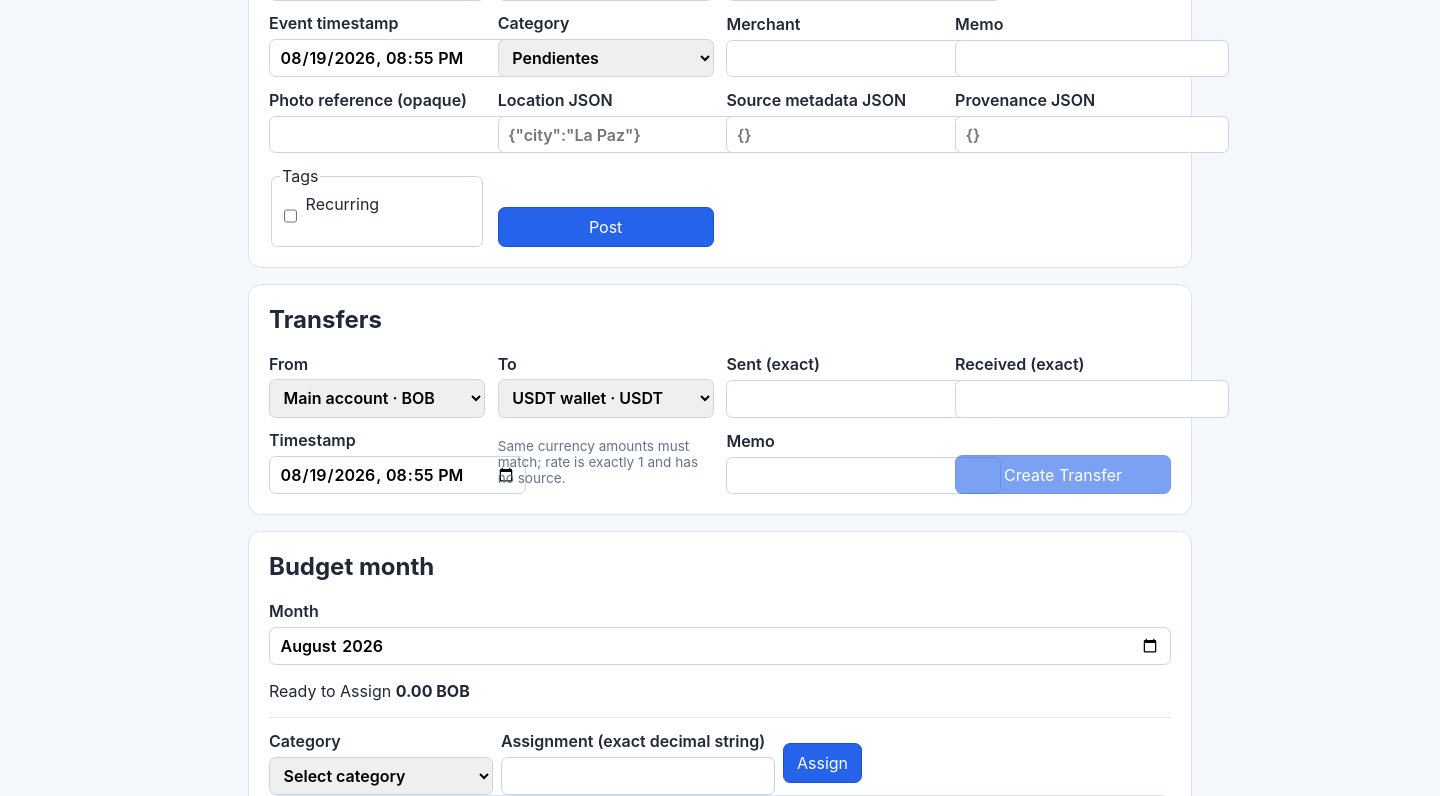
minimal authoritative client flows › posts an exact cross-currency Transfer, renders grouped facts, and refetches after reversal
(page scrolled)
Type "99999999999999999999.99" into the field labelled "Sent (exact)". click: point(864, 399)
box: top-left (726, 380), bottom-right (1001, 418)
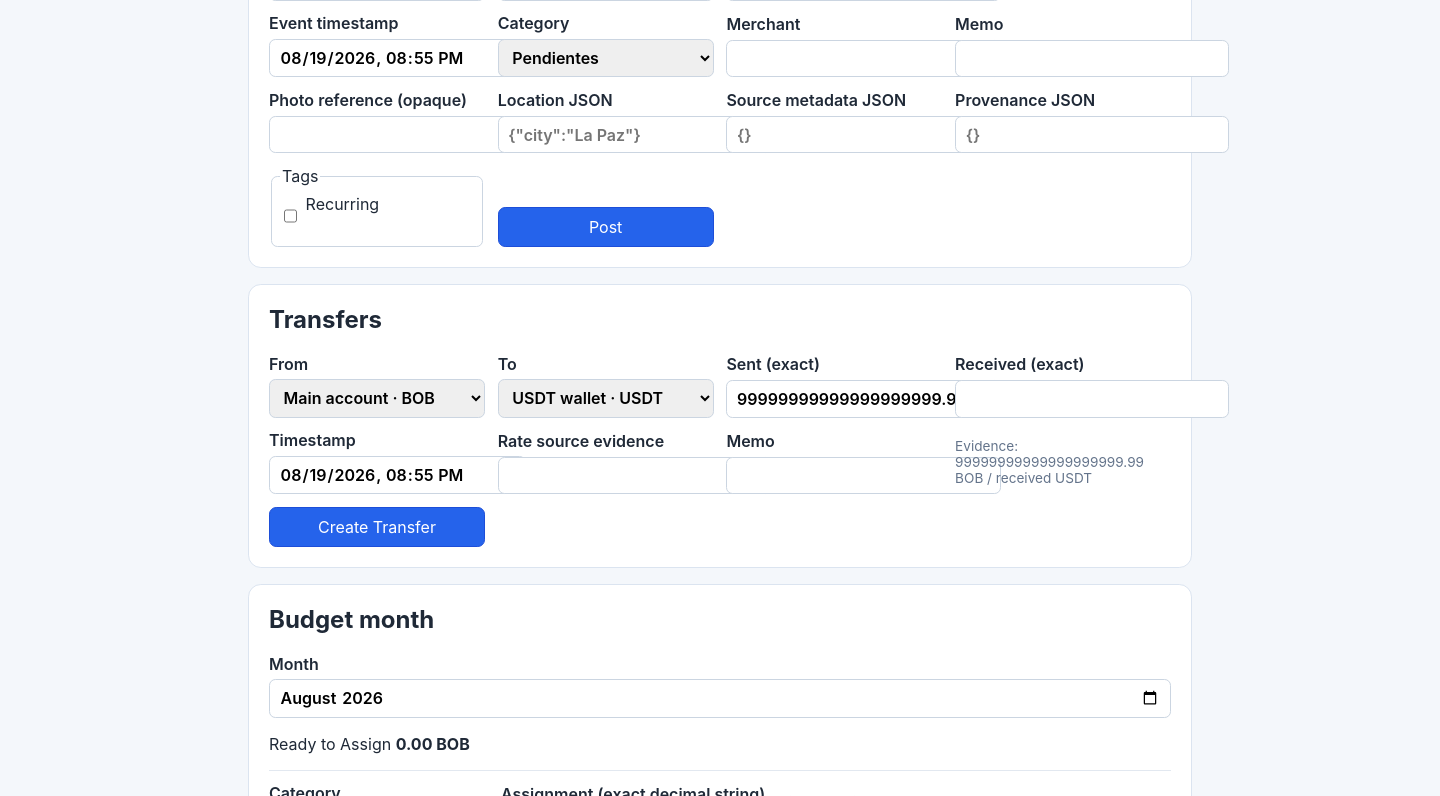
Type "10.000000" into the field labelled "Received (exact)". click: point(1092, 399)
box: top-left (955, 380), bottom-right (1229, 418)
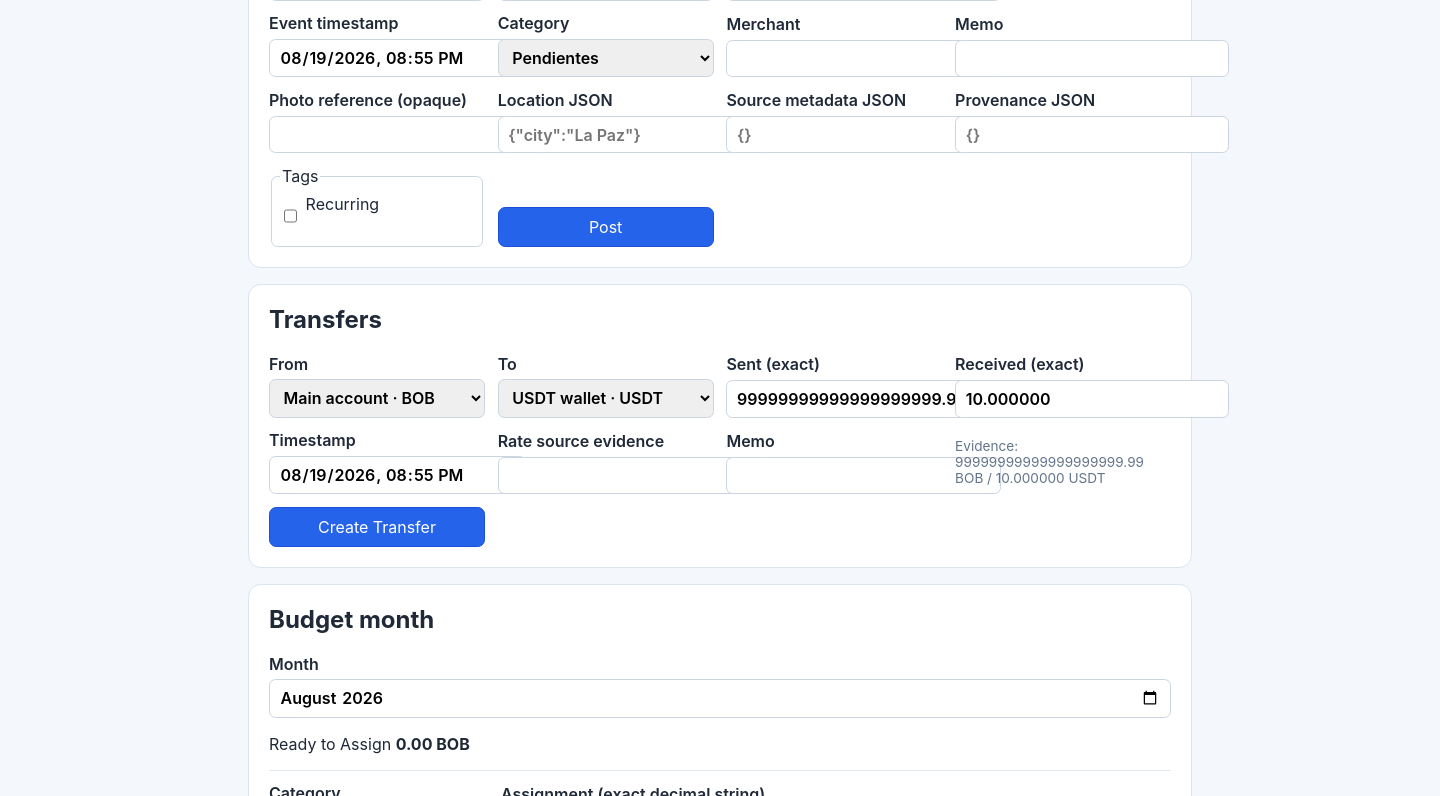
Type "bank receipt" into the field labelled "Rate source evidence". click: point(635, 476)
box: top-left (498, 457), bottom-right (772, 494)
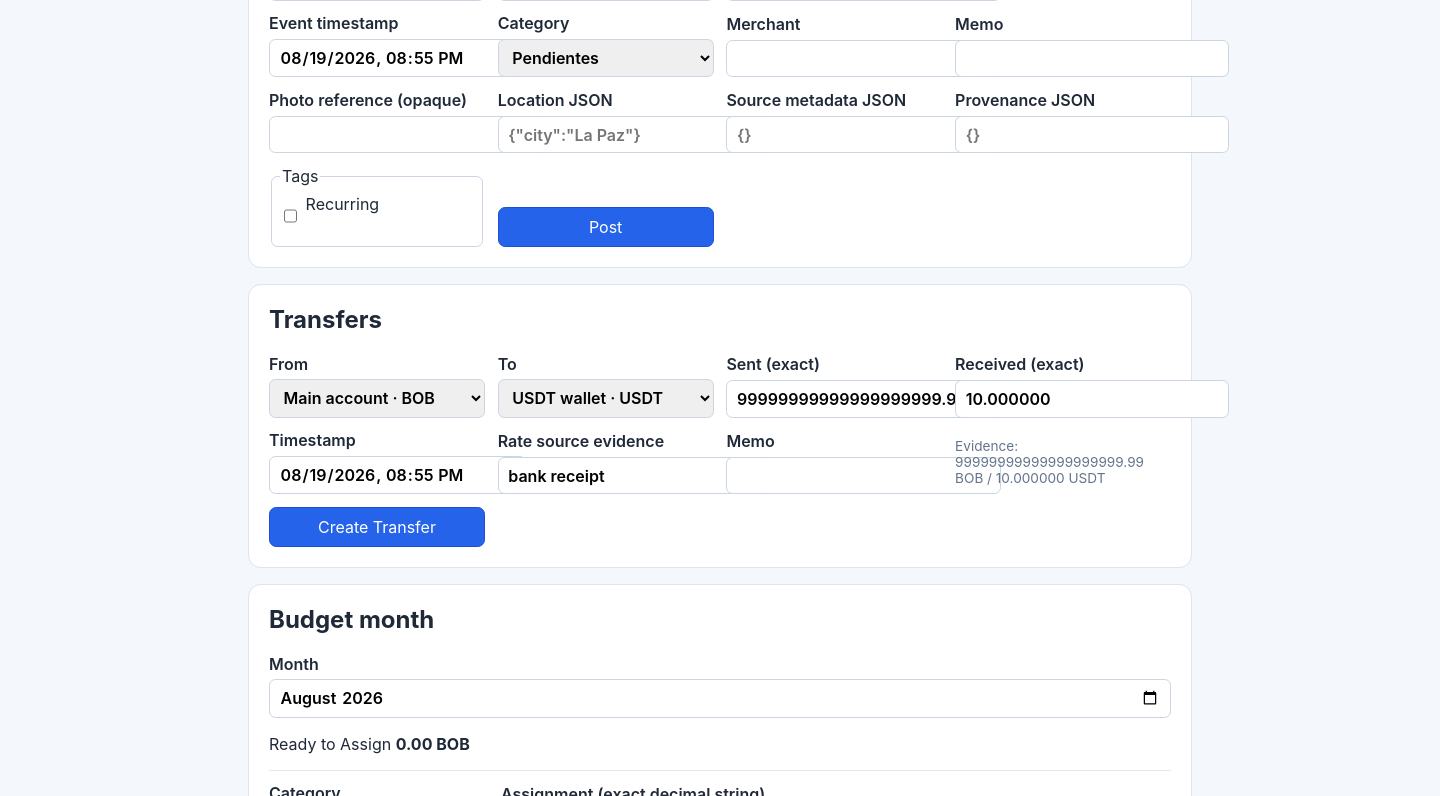
Click the button "Create Transfer". click: point(377, 527)
box: top-left (269, 507), bottom-right (485, 547)
(page scrolled)
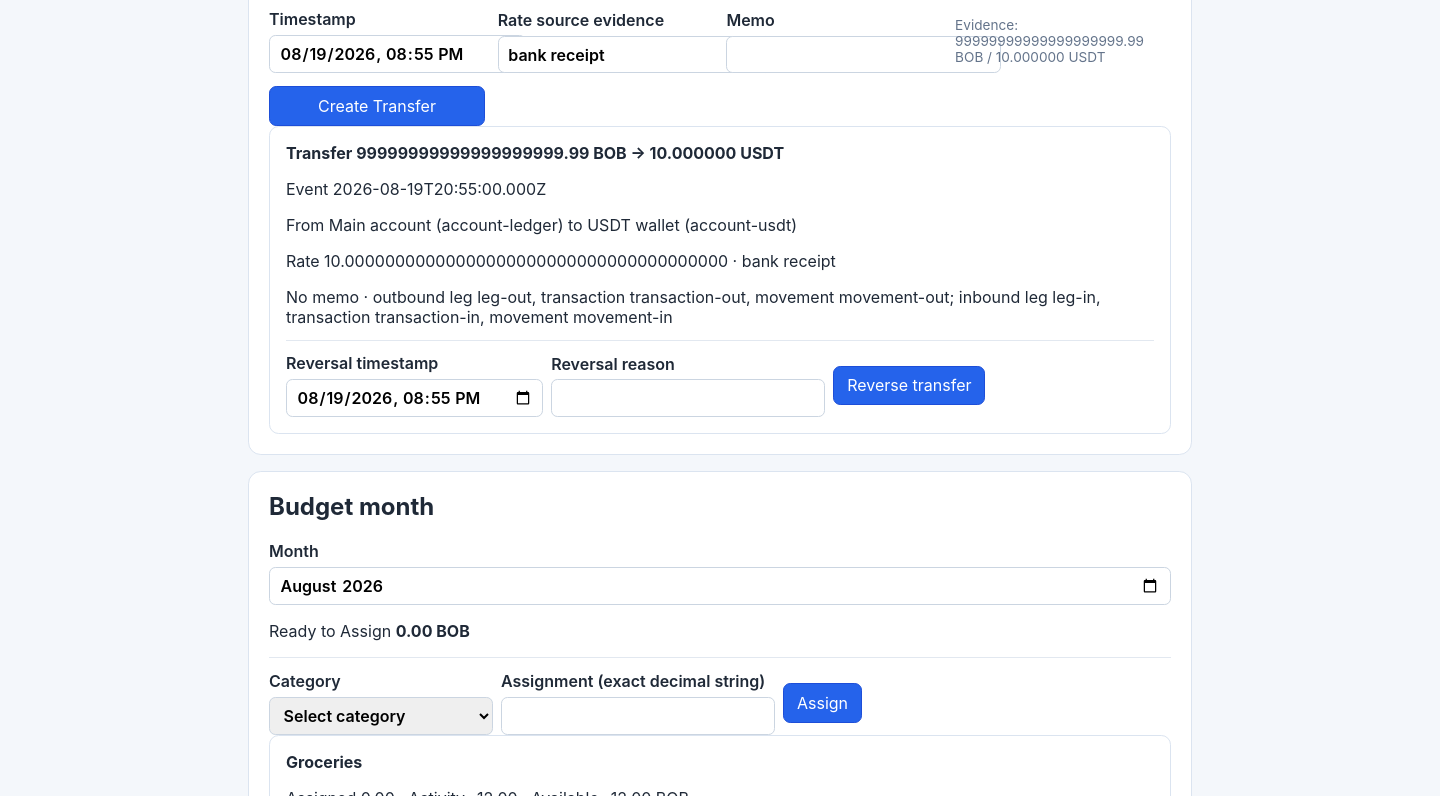
expect the text "Transfer 99999999999999999999.99 BOB → 10.000000 USDT" is shown: met, box top-left (286, 143), bottom-right (784, 163)
expect the text "Event 2026-08-19T20:55:00.000Z" is shown: met, box top-left (286, 179), bottom-right (546, 199)
expect the text "outbound leg leg-out, transaction transaction-out" is shown: met, box top-left (286, 287), bottom-right (1101, 327)
Type "duplicate" into the field labelled "Reversal reason". click: point(688, 398)
box: top-left (551, 379), bottom-right (825, 417)
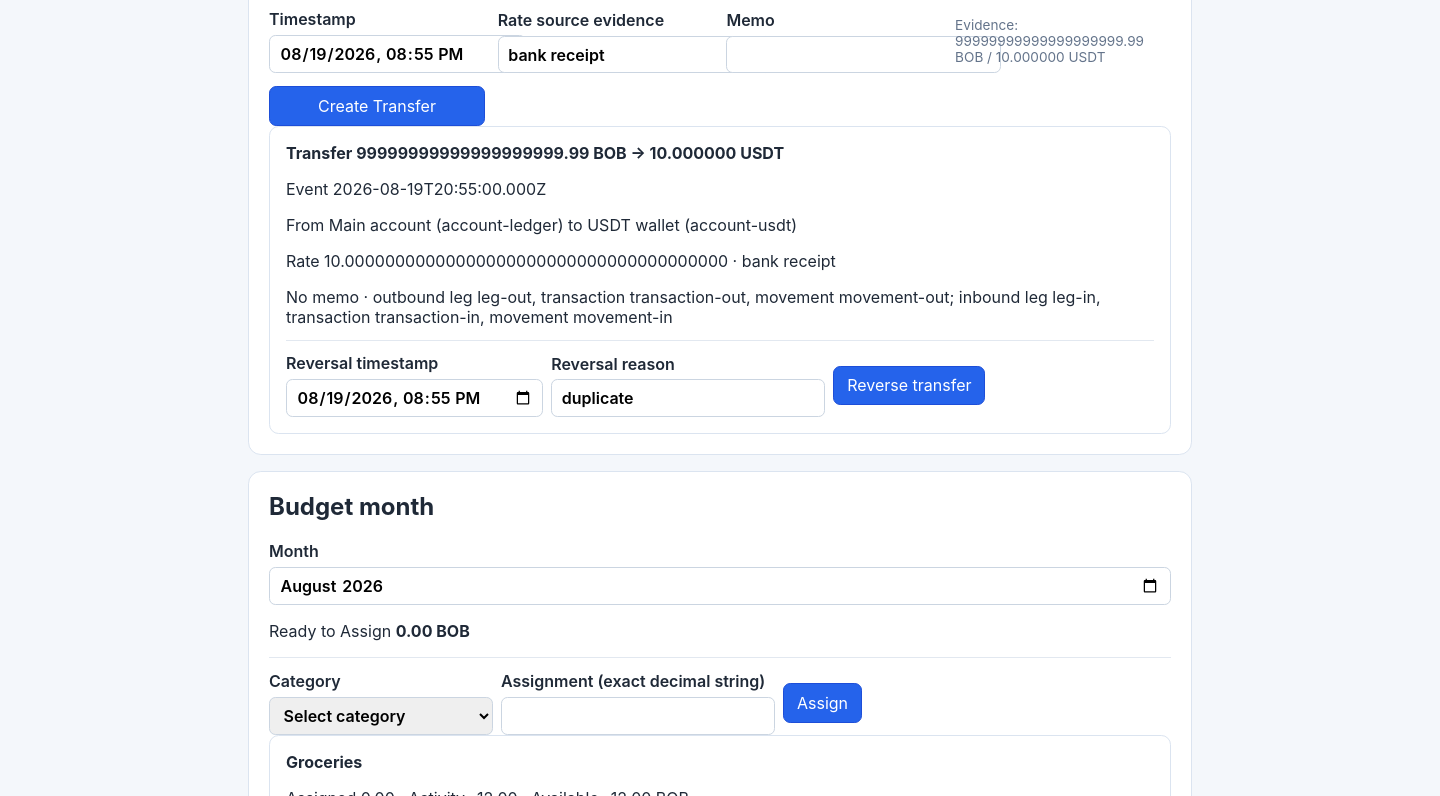
Click the button "Reverse transfer". click: point(909, 385)
box: top-left (833, 366), bottom-right (985, 405)
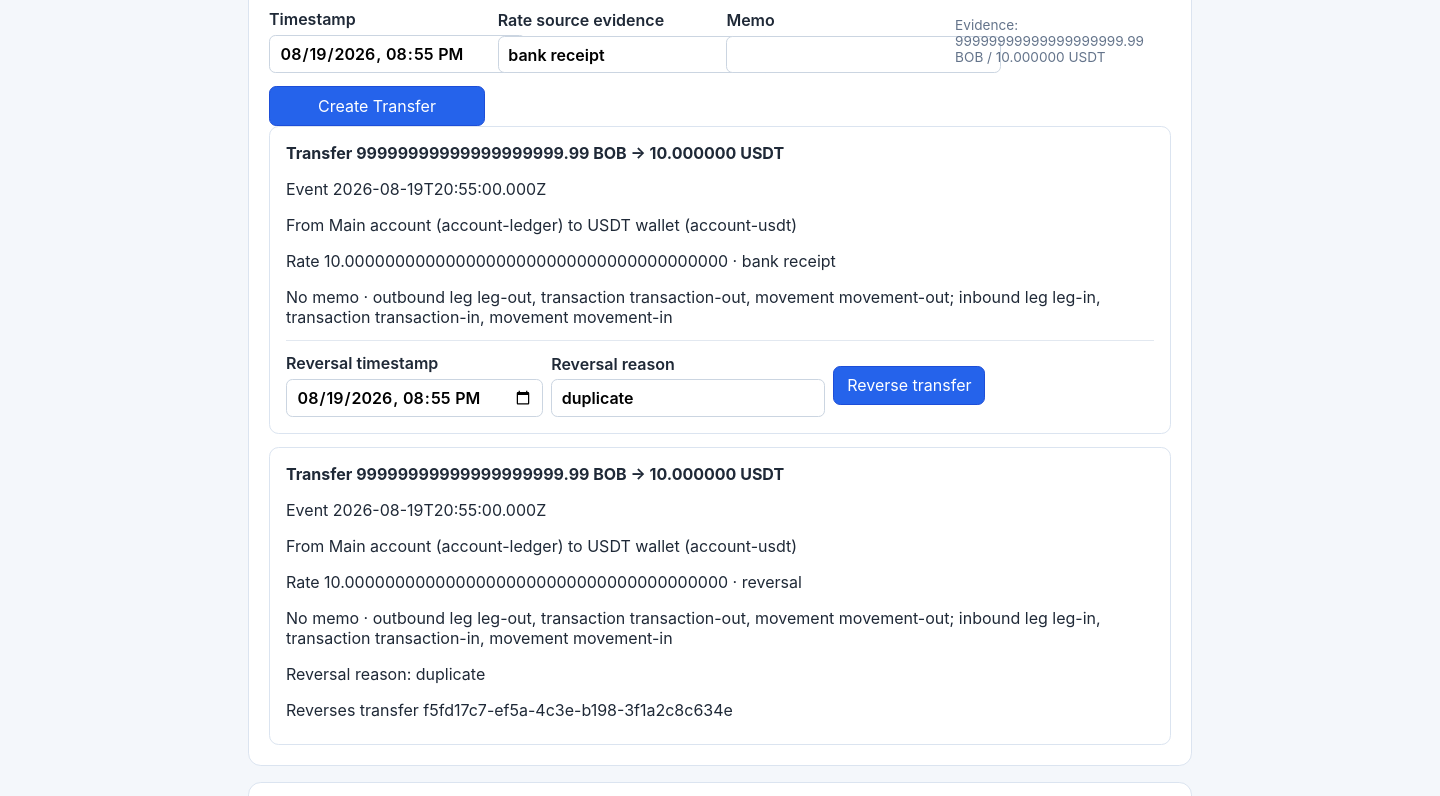
expect the text "Reversal reason: duplicate" is shown: met, box top-left (286, 664), bottom-right (485, 684)
